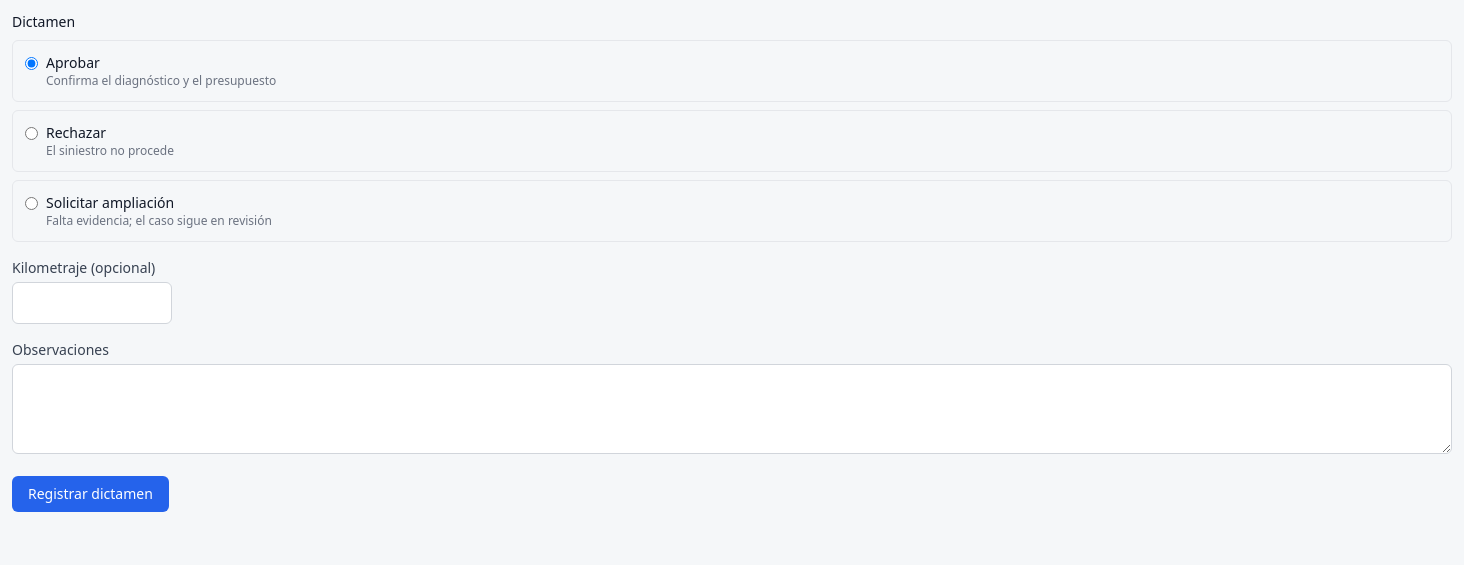
VerdictForm › debería requerir instrucciones para enviar AMPLIACION_REQUERIDA
Click the radio button labelled "Solicitar ampliación" at [32, 204], box [25,197,38,210]
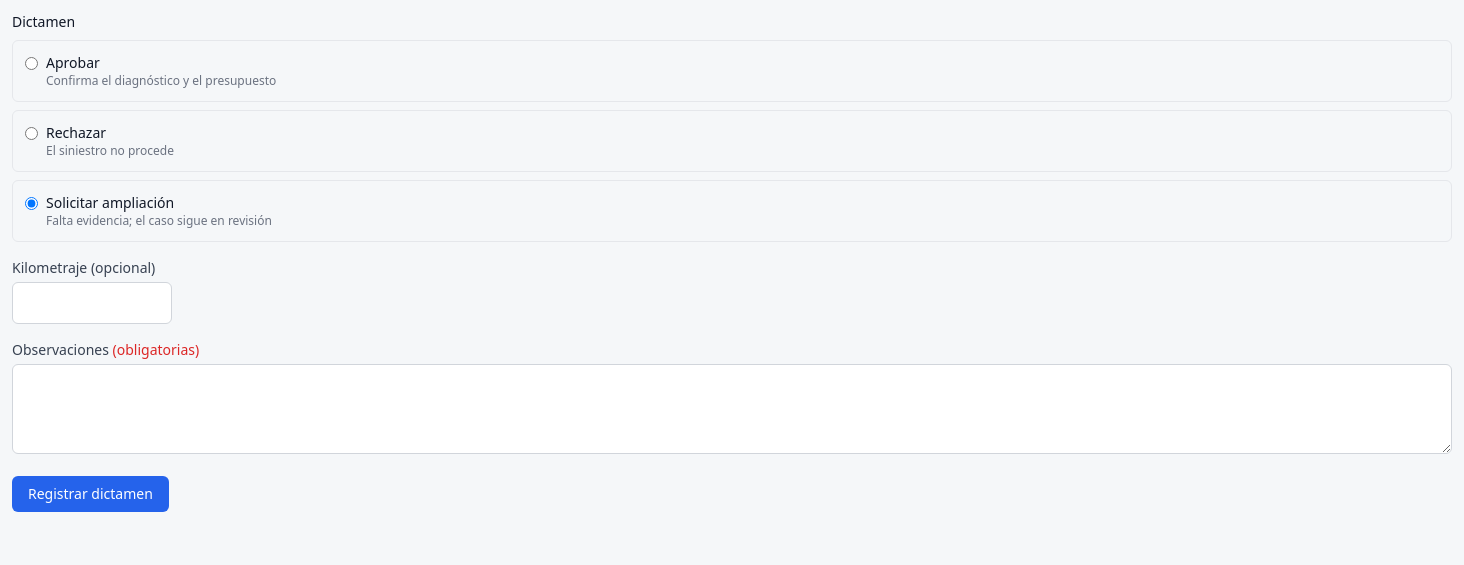
Click the button "Registrar dictamen" at [90, 494], box [12,476,169,512]
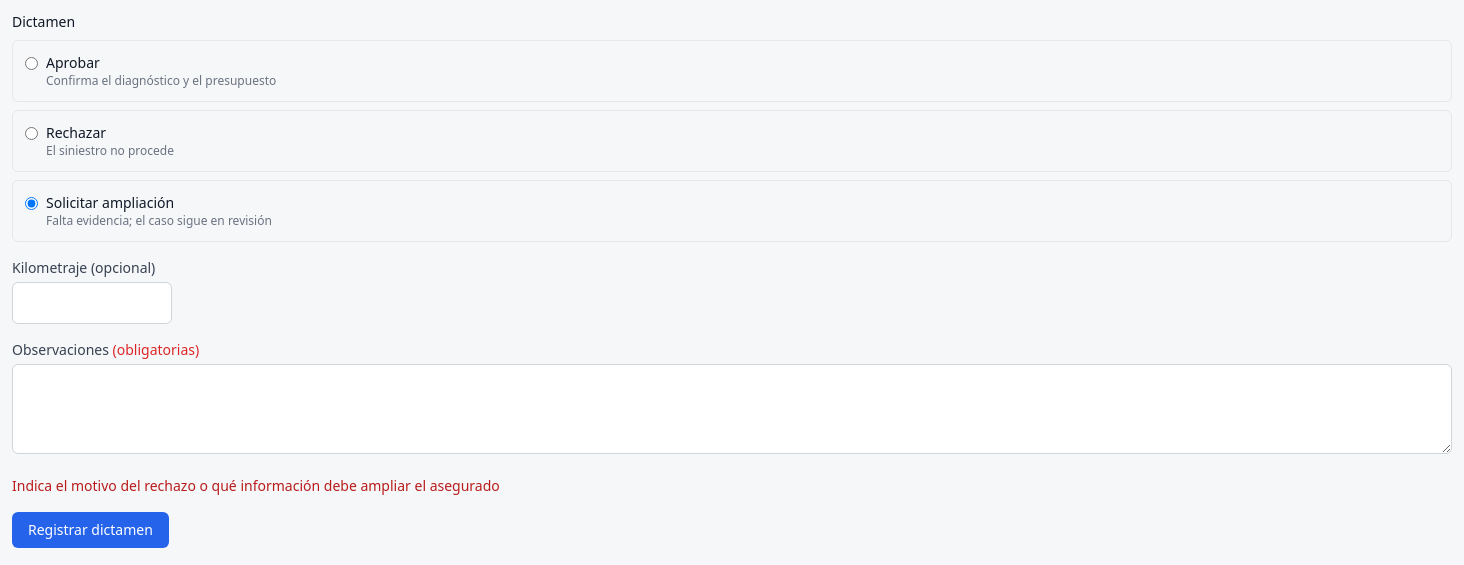
Type "Necesito fotos del lateral" into the text box labelled "Observaciones (obligatorias)" at [732, 409], box [12,364,1452,454]
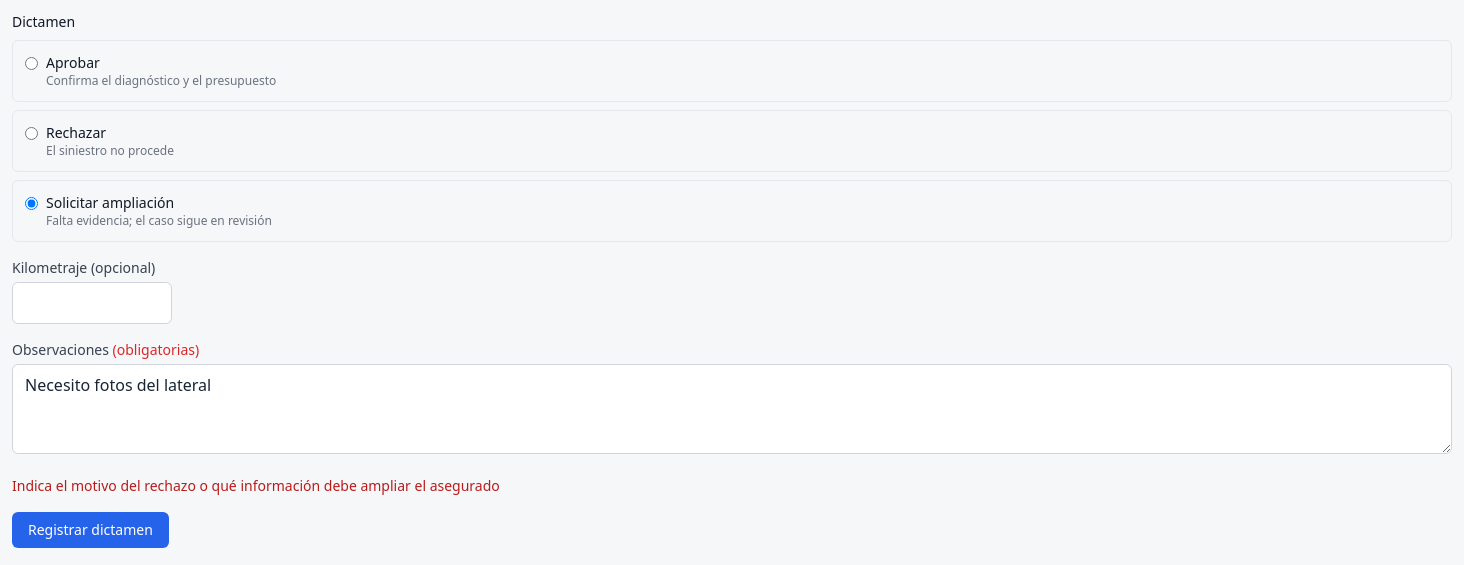
Click the button "Registrar dictamen" at [90, 530], box [12,512,169,548]
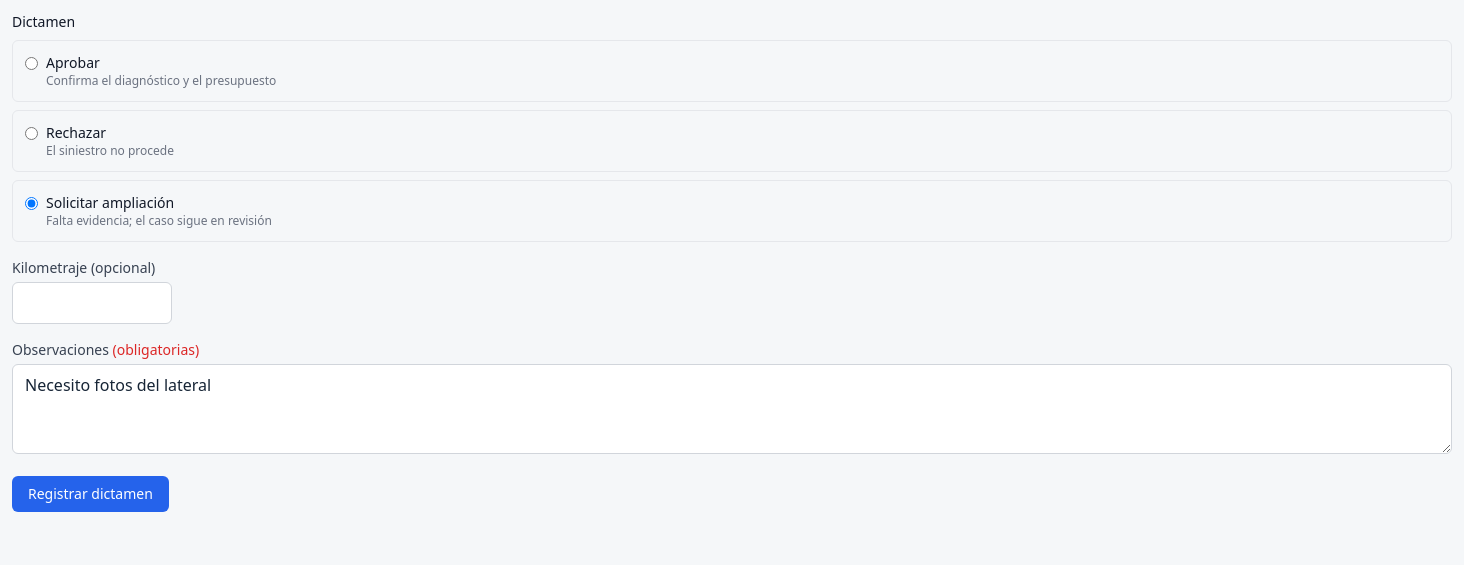
Now the message "Indica el motivo del rechazo o qué información debe ampliar el asegurado" is gone
